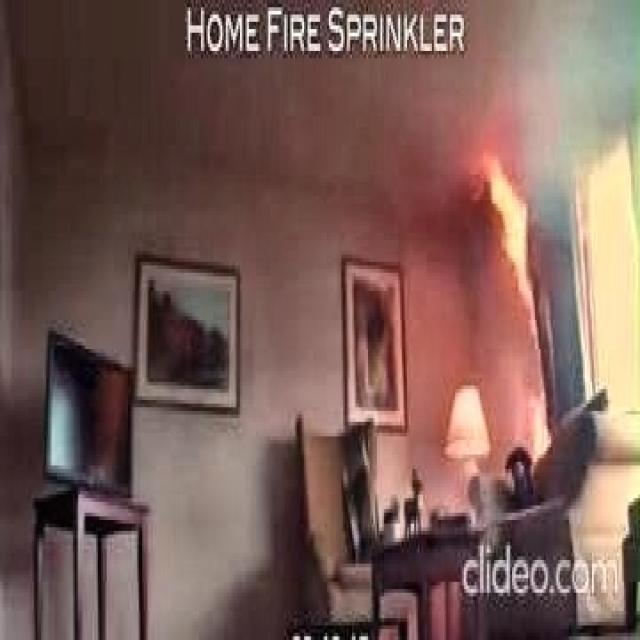fire: (452, 107, 548, 300)
